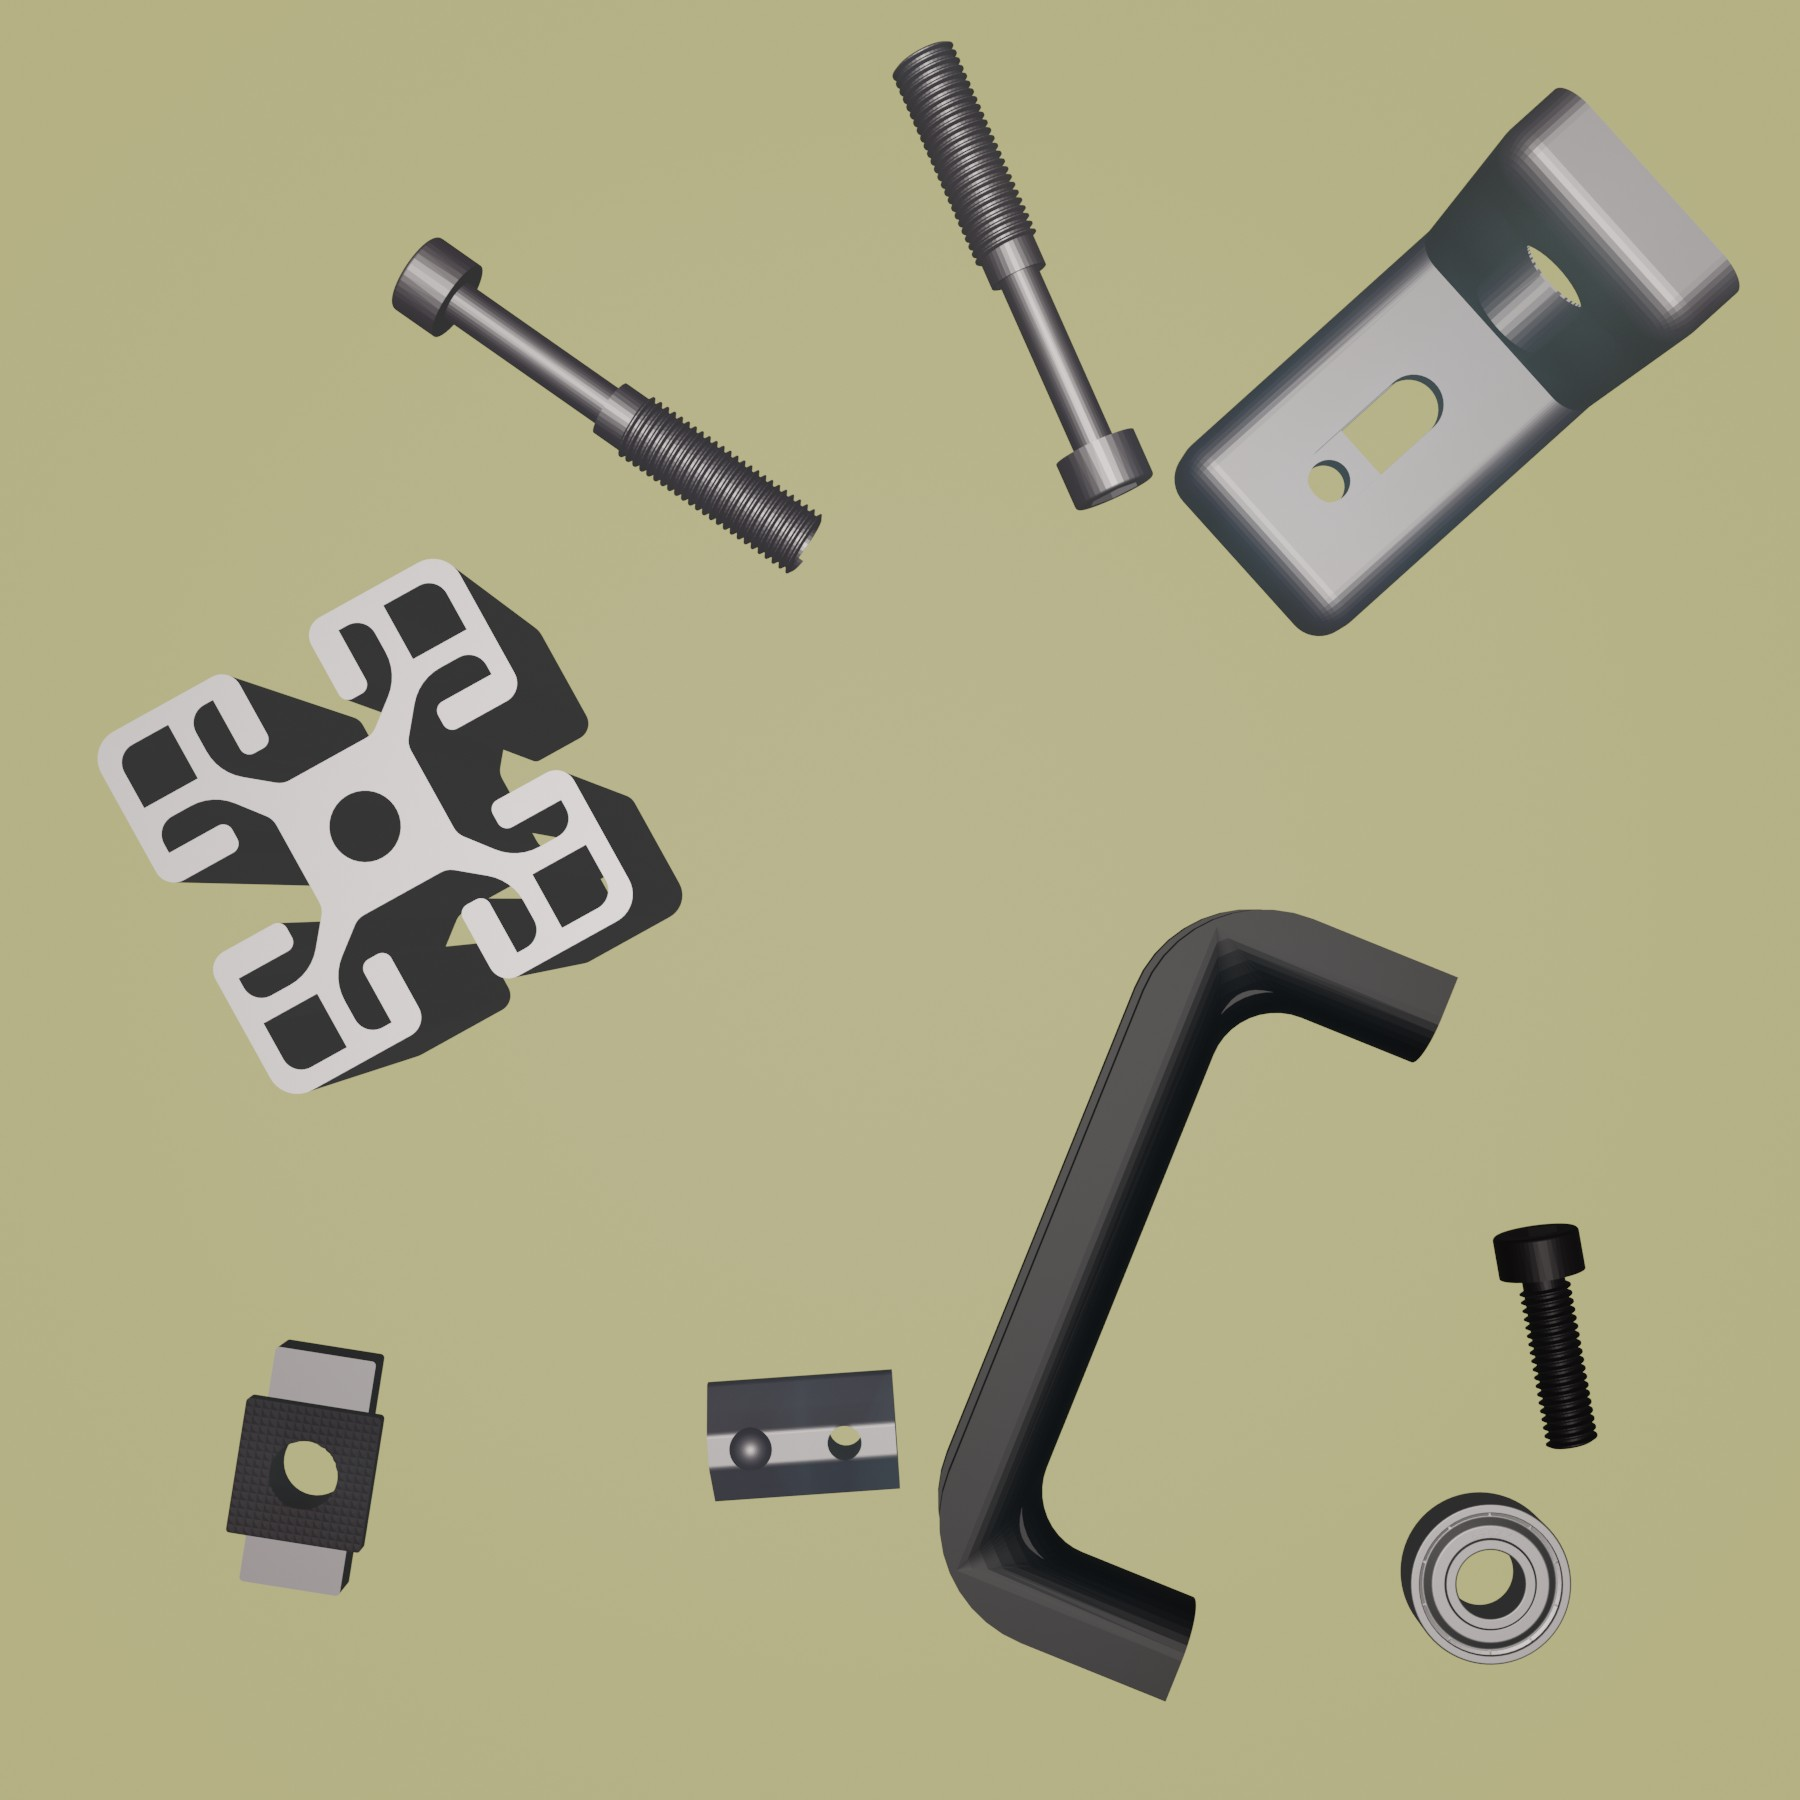Aluminium Extension: (92, 557, 686, 1099)
Ball Bearing: (1398, 1488, 1576, 1666)
Multiwinkel: (1170, 86, 1742, 640)
Pull Handle: (935, 903, 1460, 1704)
Shoulder Socket Head Cap Screw: (389, 232, 824, 577), (888, 36, 1155, 514)
Socket Head Cap Screw: (1488, 1220, 1601, 1451)
T Nut Square: (221, 1334, 387, 1599)
T Spring Nut: (704, 1365, 905, 1503)
